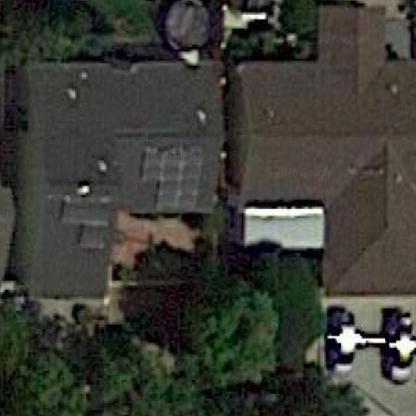car: (372, 306, 416, 384), (314, 309, 360, 371)
solar_panel: (139, 124, 211, 224), (49, 193, 117, 261)
